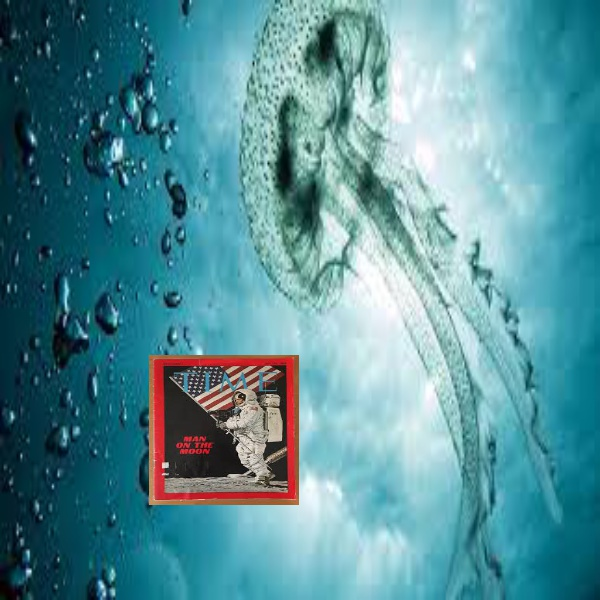time_cover: (135, 347, 307, 514)
